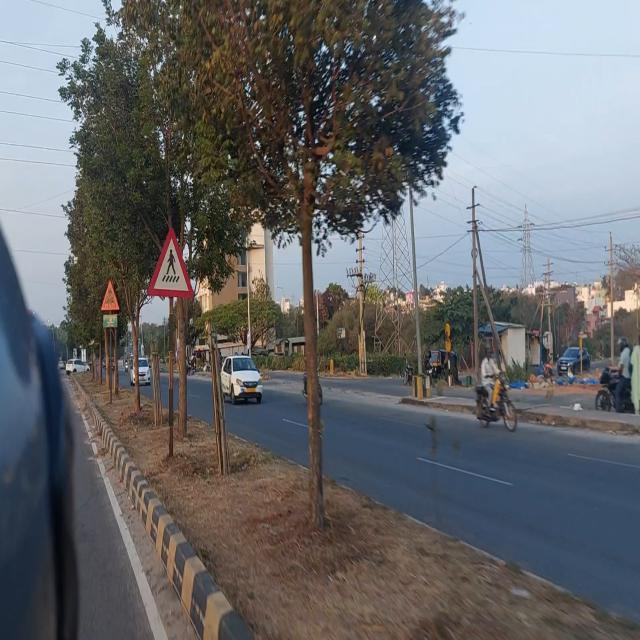bien_cam: (145, 220, 196, 300), (101, 278, 120, 310)
